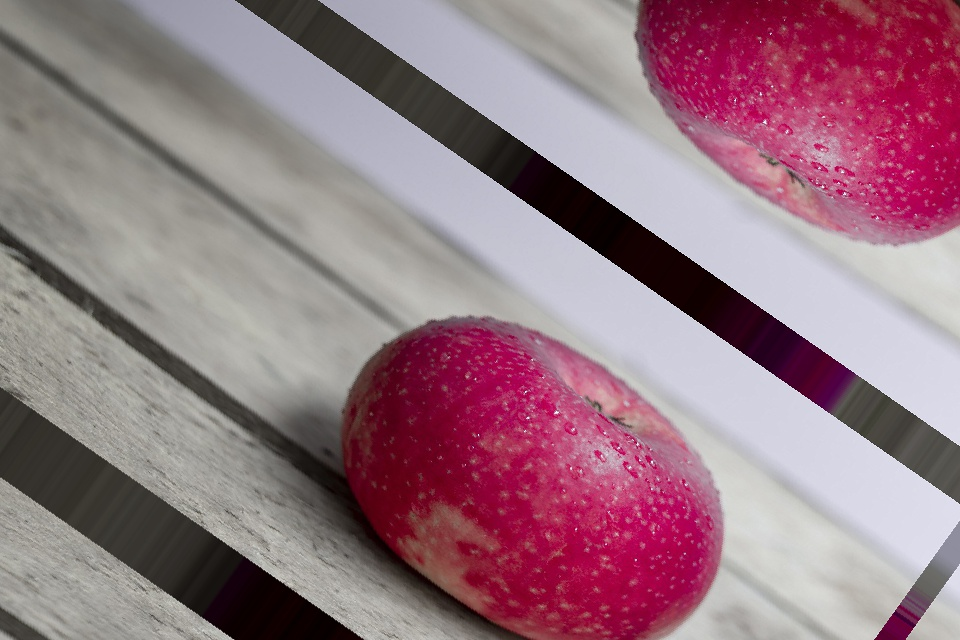apple: (251, 226, 829, 639)
